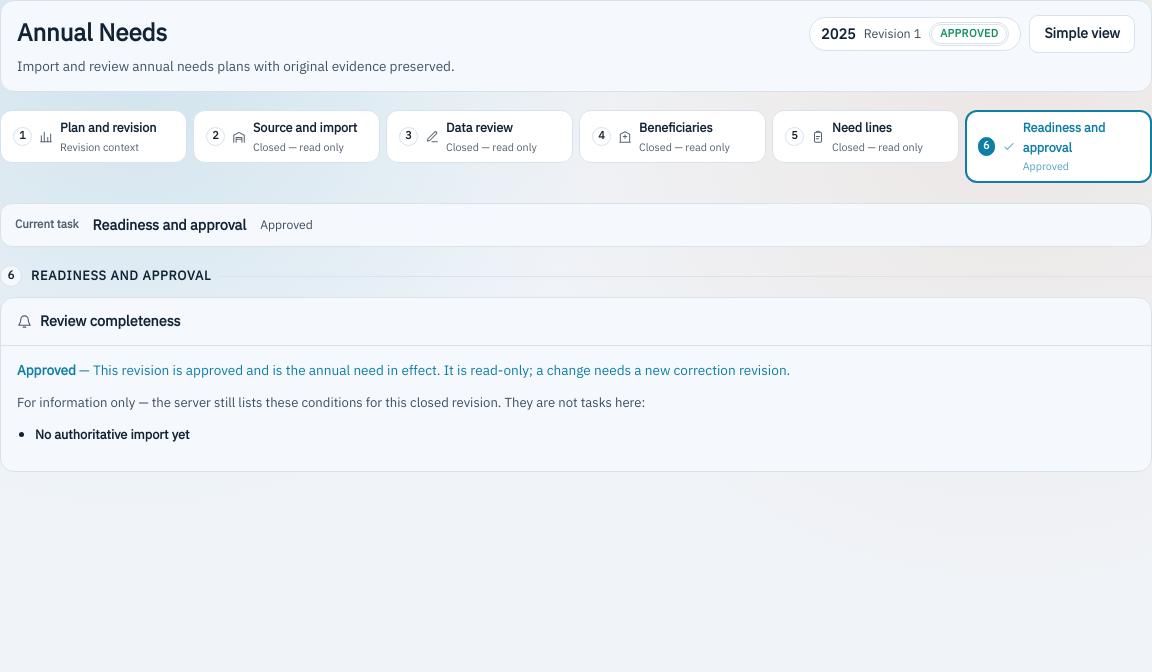
it: C2 — Advanced Mode correction › a stale refusal is surfaced, the registry is re-read, and the request is never retried
Click the button "1 Plan and revision Revision context" at x=94, y=137, box [0,110,187,164]
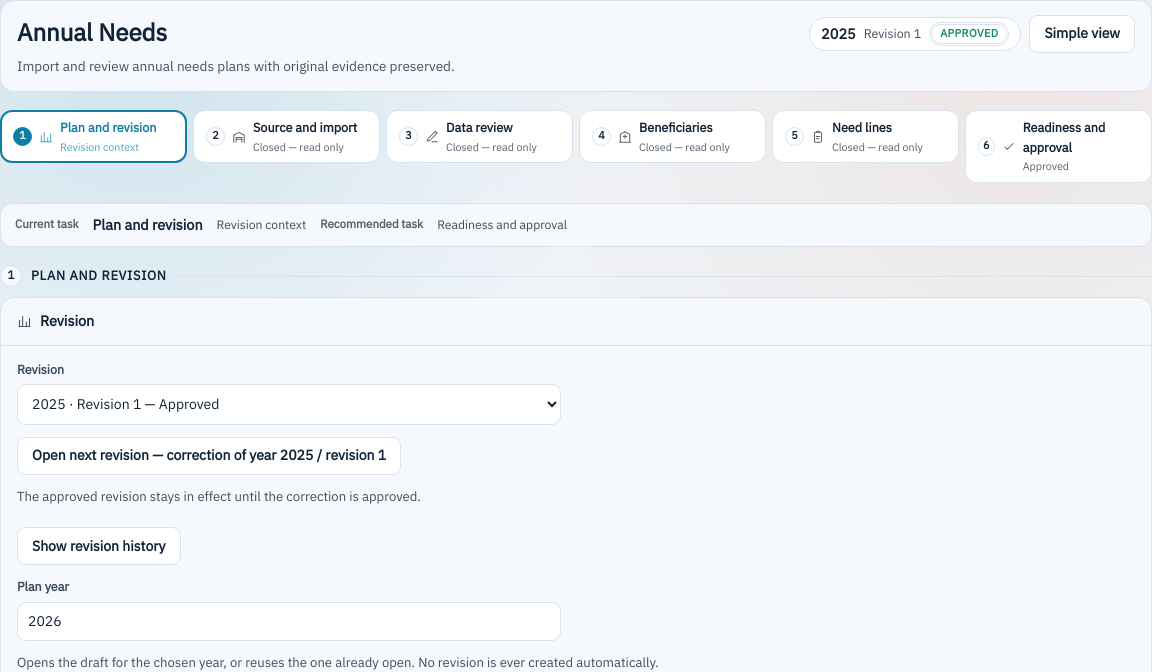
Click the button with test id "cn2b-open-next-revision" at x=209, y=456, box [17,437,401,475]
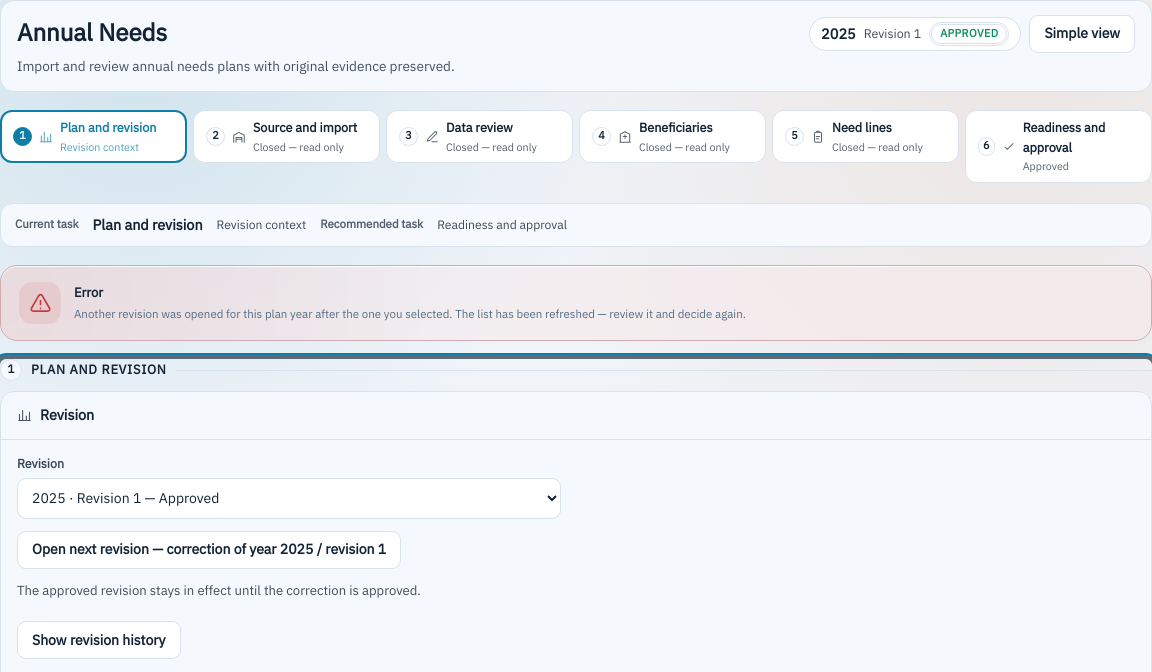
Result: the text "Another revision was opened for this plan year after the one you selected. The list has been refreshed — review it and d" is shown at [74,306,746,323]
